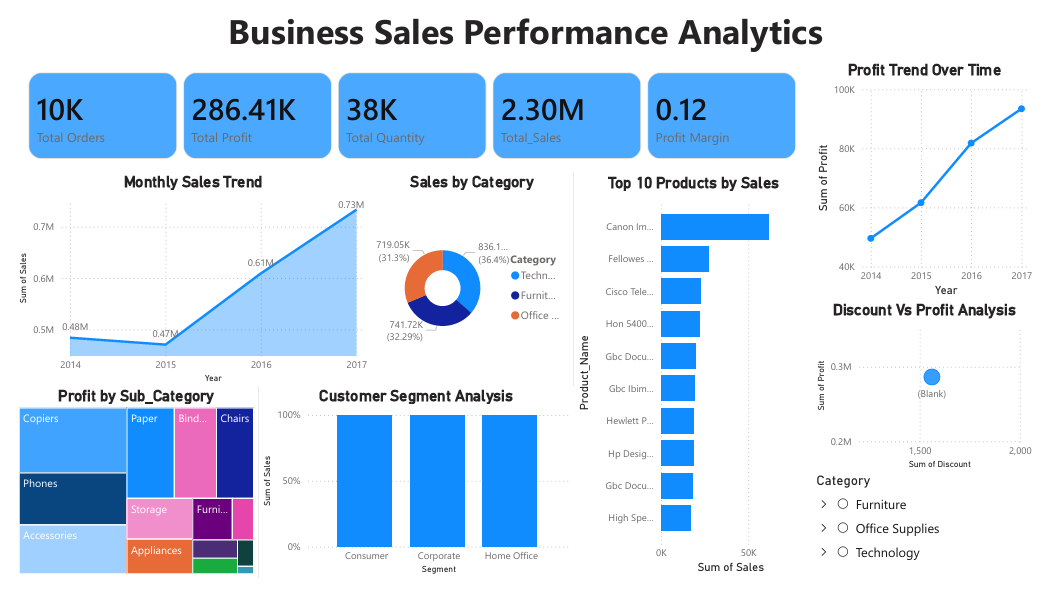

The dashboard page shown, as its layout file describes it:
{"tool":"powerbi","page":{"name":"Page 1","canvas":[1280,720],"ordinal":0},"visuals":[{"type":"actionButton","box":[0,0,230,84],"z":0},{"type":"cardVisual","fields":{"Data":["Superstore.Total Orders","Superstore.Total Profit","Superstore.Total Quantity","Superstore.Total_Sales","Superstore.Profit Margin"]},"box":[0,70,1000,142],"z":1000},{"type":"clusteredBarChart","title":"Top 10 Products by Sales","fields":{"Category":["Superstore.Product_Name"],"Y":["Sum(Superstore.Sales)"]},"box":[700.6,212.8,299.5,507.4],"z":2000},{"type":"treemap","title":"Profit by Sub_Category","fields":{"Group":["Superstore.Sub_Category"],"Values":["Sum(Superstore.Profit)"]},"box":[0,480,304,240],"z":3000},{"type":"areaChart","title":"Monthly Sales Trend","fields":{"Category":["Superstore.Order_Date.Variation.Date Hierarchy.Year","Superstore.Order_Date.Variation.Date Hierarchy.Quarter","Superstore.Order_Date.Variation.Date Hierarchy.Month","Superstore.Order_Date.Variation.Date Hierarchy.Day"],"Y":["Sum(Superstore.Sales)"]},"box":[0,212,446,268],"z":4000},{"type":"lineChart","title":"Profit Trend Over Time","fields":{"Category":["Superstore.Order_Date.Variation.Date Hierarchy.Year","Superstore.Order_Date.Variation.Date Hierarchy.Quarter","Superstore.Order_Date.Variation.Date Hierarchy.Month","Superstore.Order_Date.Variation.Date Hierarchy.Day"],"Y":["Sum(Superstore.Profit)"]},"box":[1000.1,72,279.9,301.2],"z":5000},{"type":"donutChart","title":"Sales by Category","fields":{"Category":["Superstore.Category"],"Y":["Sum(Superstore.Sales)"]},"box":[446,212,254,268],"z":6000},{"type":"scatterChart","title":"Discount Vs Profit Analysis","fields":{"X":["Sum(Superstore.Discount)"],"Y":["Sum(Superstore.Profit)"],"Size":["Sum(Superstore.Sales)"]},"box":[1000.1,373.2,279.9,214.4],"z":7000},{"type":"hundredPercentStackedColumnChart","title":"Customer Segment Analysis","fields":{"Category":["Superstore.Segment"],"Y":["Sum(Superstore.Sales)"]},"box":[306,480,394,240],"z":8000},{"type":"listSlicer","fields":{"Values":["Superstore.Category","Superstore.Region","Superstore.Segment"]},"box":[1000.1,587.6,279.9,132.6],"z":9000},{"type":"textbox","box":[0,0,1280,72],"z":10000}]}

Visuals, with their boxes in screenshot pixels (x1, y1, x2, y2), scaled from the page's 1280x720 canvas onto the 1052x591 screenshot:
actionButton: (0,0,189,69)
cardVisual - Superstore.Total Orders x Superstore.Total Profit: (0,57,822,174)
"Top 10 Products by Sales" clusteredBarChart: (576,175,822,590)
"Profit by Sub_Category" treemap: (0,394,250,590)
"Monthly Sales Trend" areaChart: (0,174,367,394)
"Profit Trend Over Time" lineChart: (822,59,1051,306)
"Sales by Category" donutChart: (367,174,575,394)
"Discount Vs Profit Analysis" scatterChart: (822,306,1051,482)
"Customer Segment Analysis" hundredPercentStackedColumnChart: (251,394,575,590)
listSlicer - Superstore.Category x Superstore.Region: (822,482,1051,590)
textbox: (0,0,1051,59)
